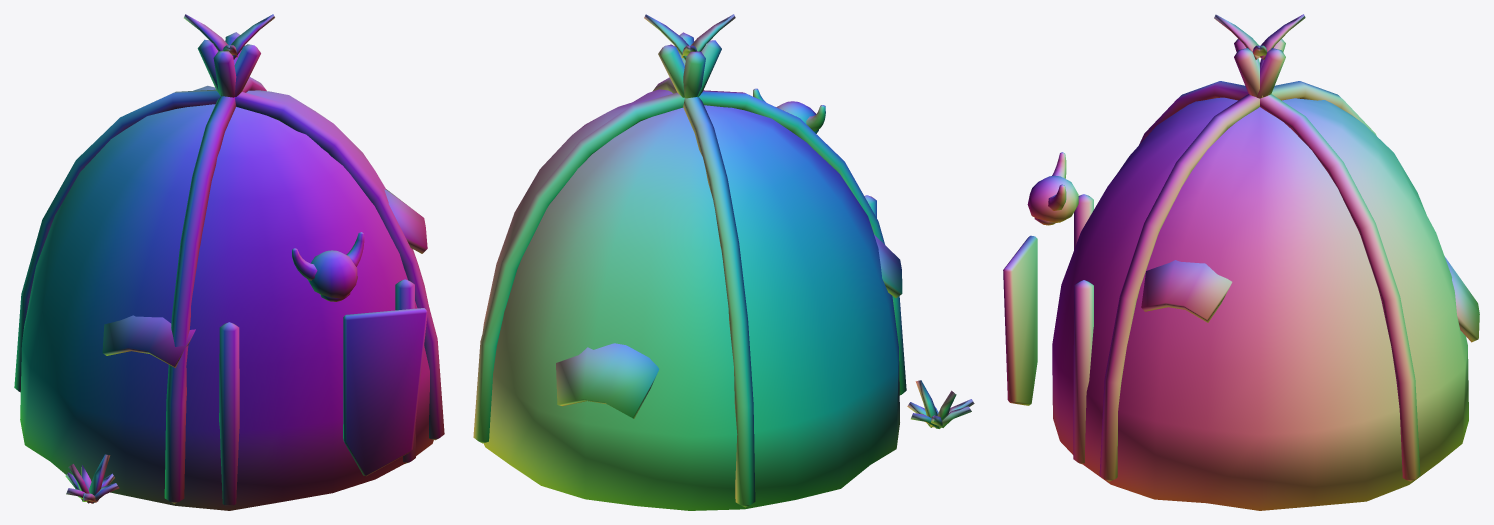
Rendered from SM_Prop_Goblin_Hut_A.fbx.
3 renders of one model, left to right at view 1: azimuth 30°, elevation 25°; view 2: azimuth 150°, elevation 25°; view 3: azimuth 270°, elevation 25°, orthographic.
Parts seen in each view (by area): view 1: SM_Prop_Goblin_Hut_A; view 2: SM_Prop_Goblin_Hut_A; view 3: SM_Prop_Goblin_Hut_A.
Part boxes in pixels (x1,y1,x2,y2): SM_Prop_Goblin_Hut_A: (14, 14, 444, 510); SM_Prop_Goblin_Hut_A: (473, 14, 974, 510); SM_Prop_Goblin_Hut_A: (1003, 14, 1479, 510).
Size of the model in its own units: 2.42 by 2.27 by 2.46.
